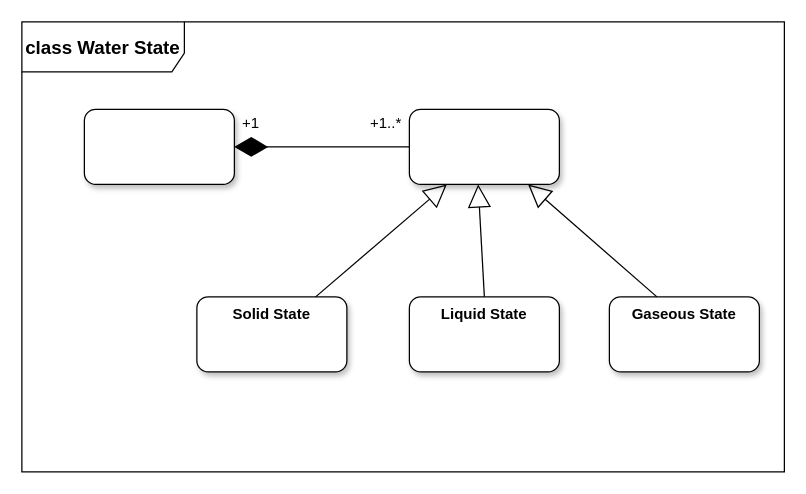
This 806x494 diagram has some shape labels left out. Here are the shapes that lost their labels. From the top down, the centre of each, then its label:
At point (160, 148): "Water".
At point (485, 148): "State".
